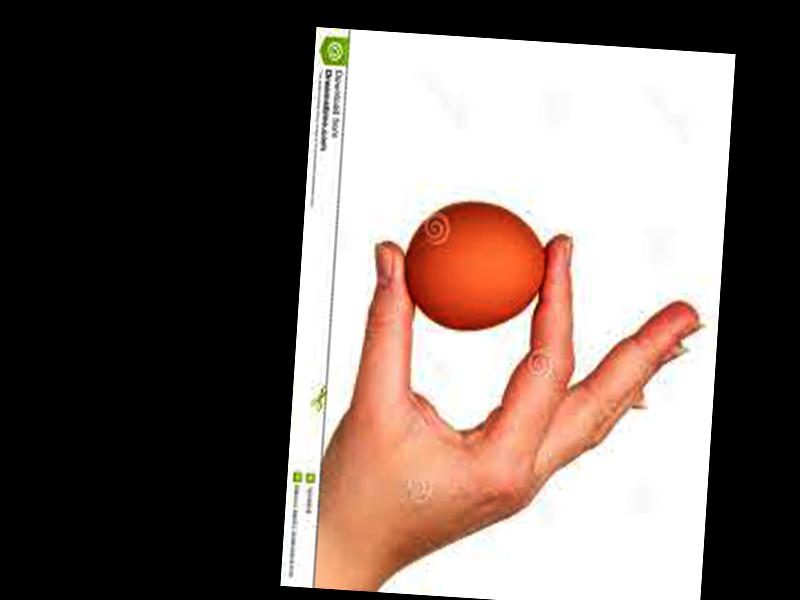Eggs: (399, 196, 550, 337)
